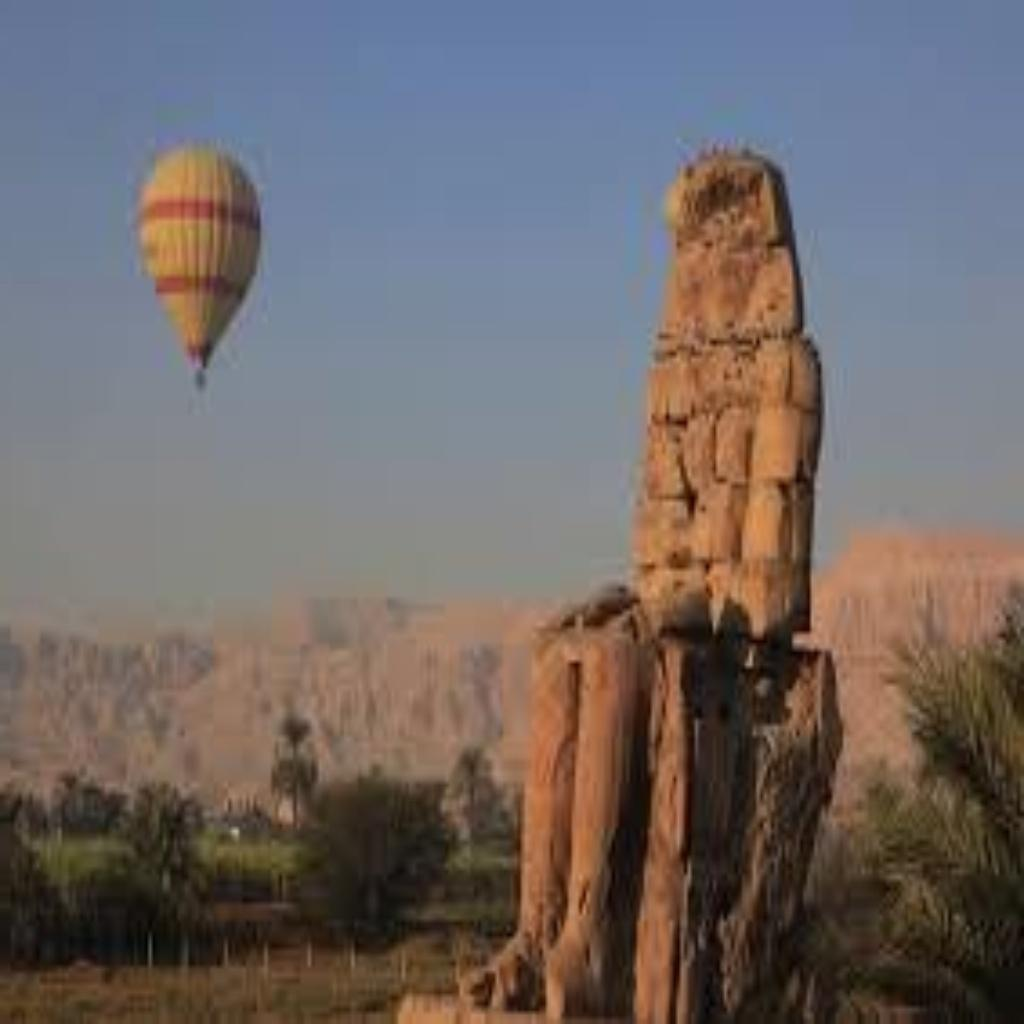Colossoi of Memnon: (470, 126, 854, 1012)
